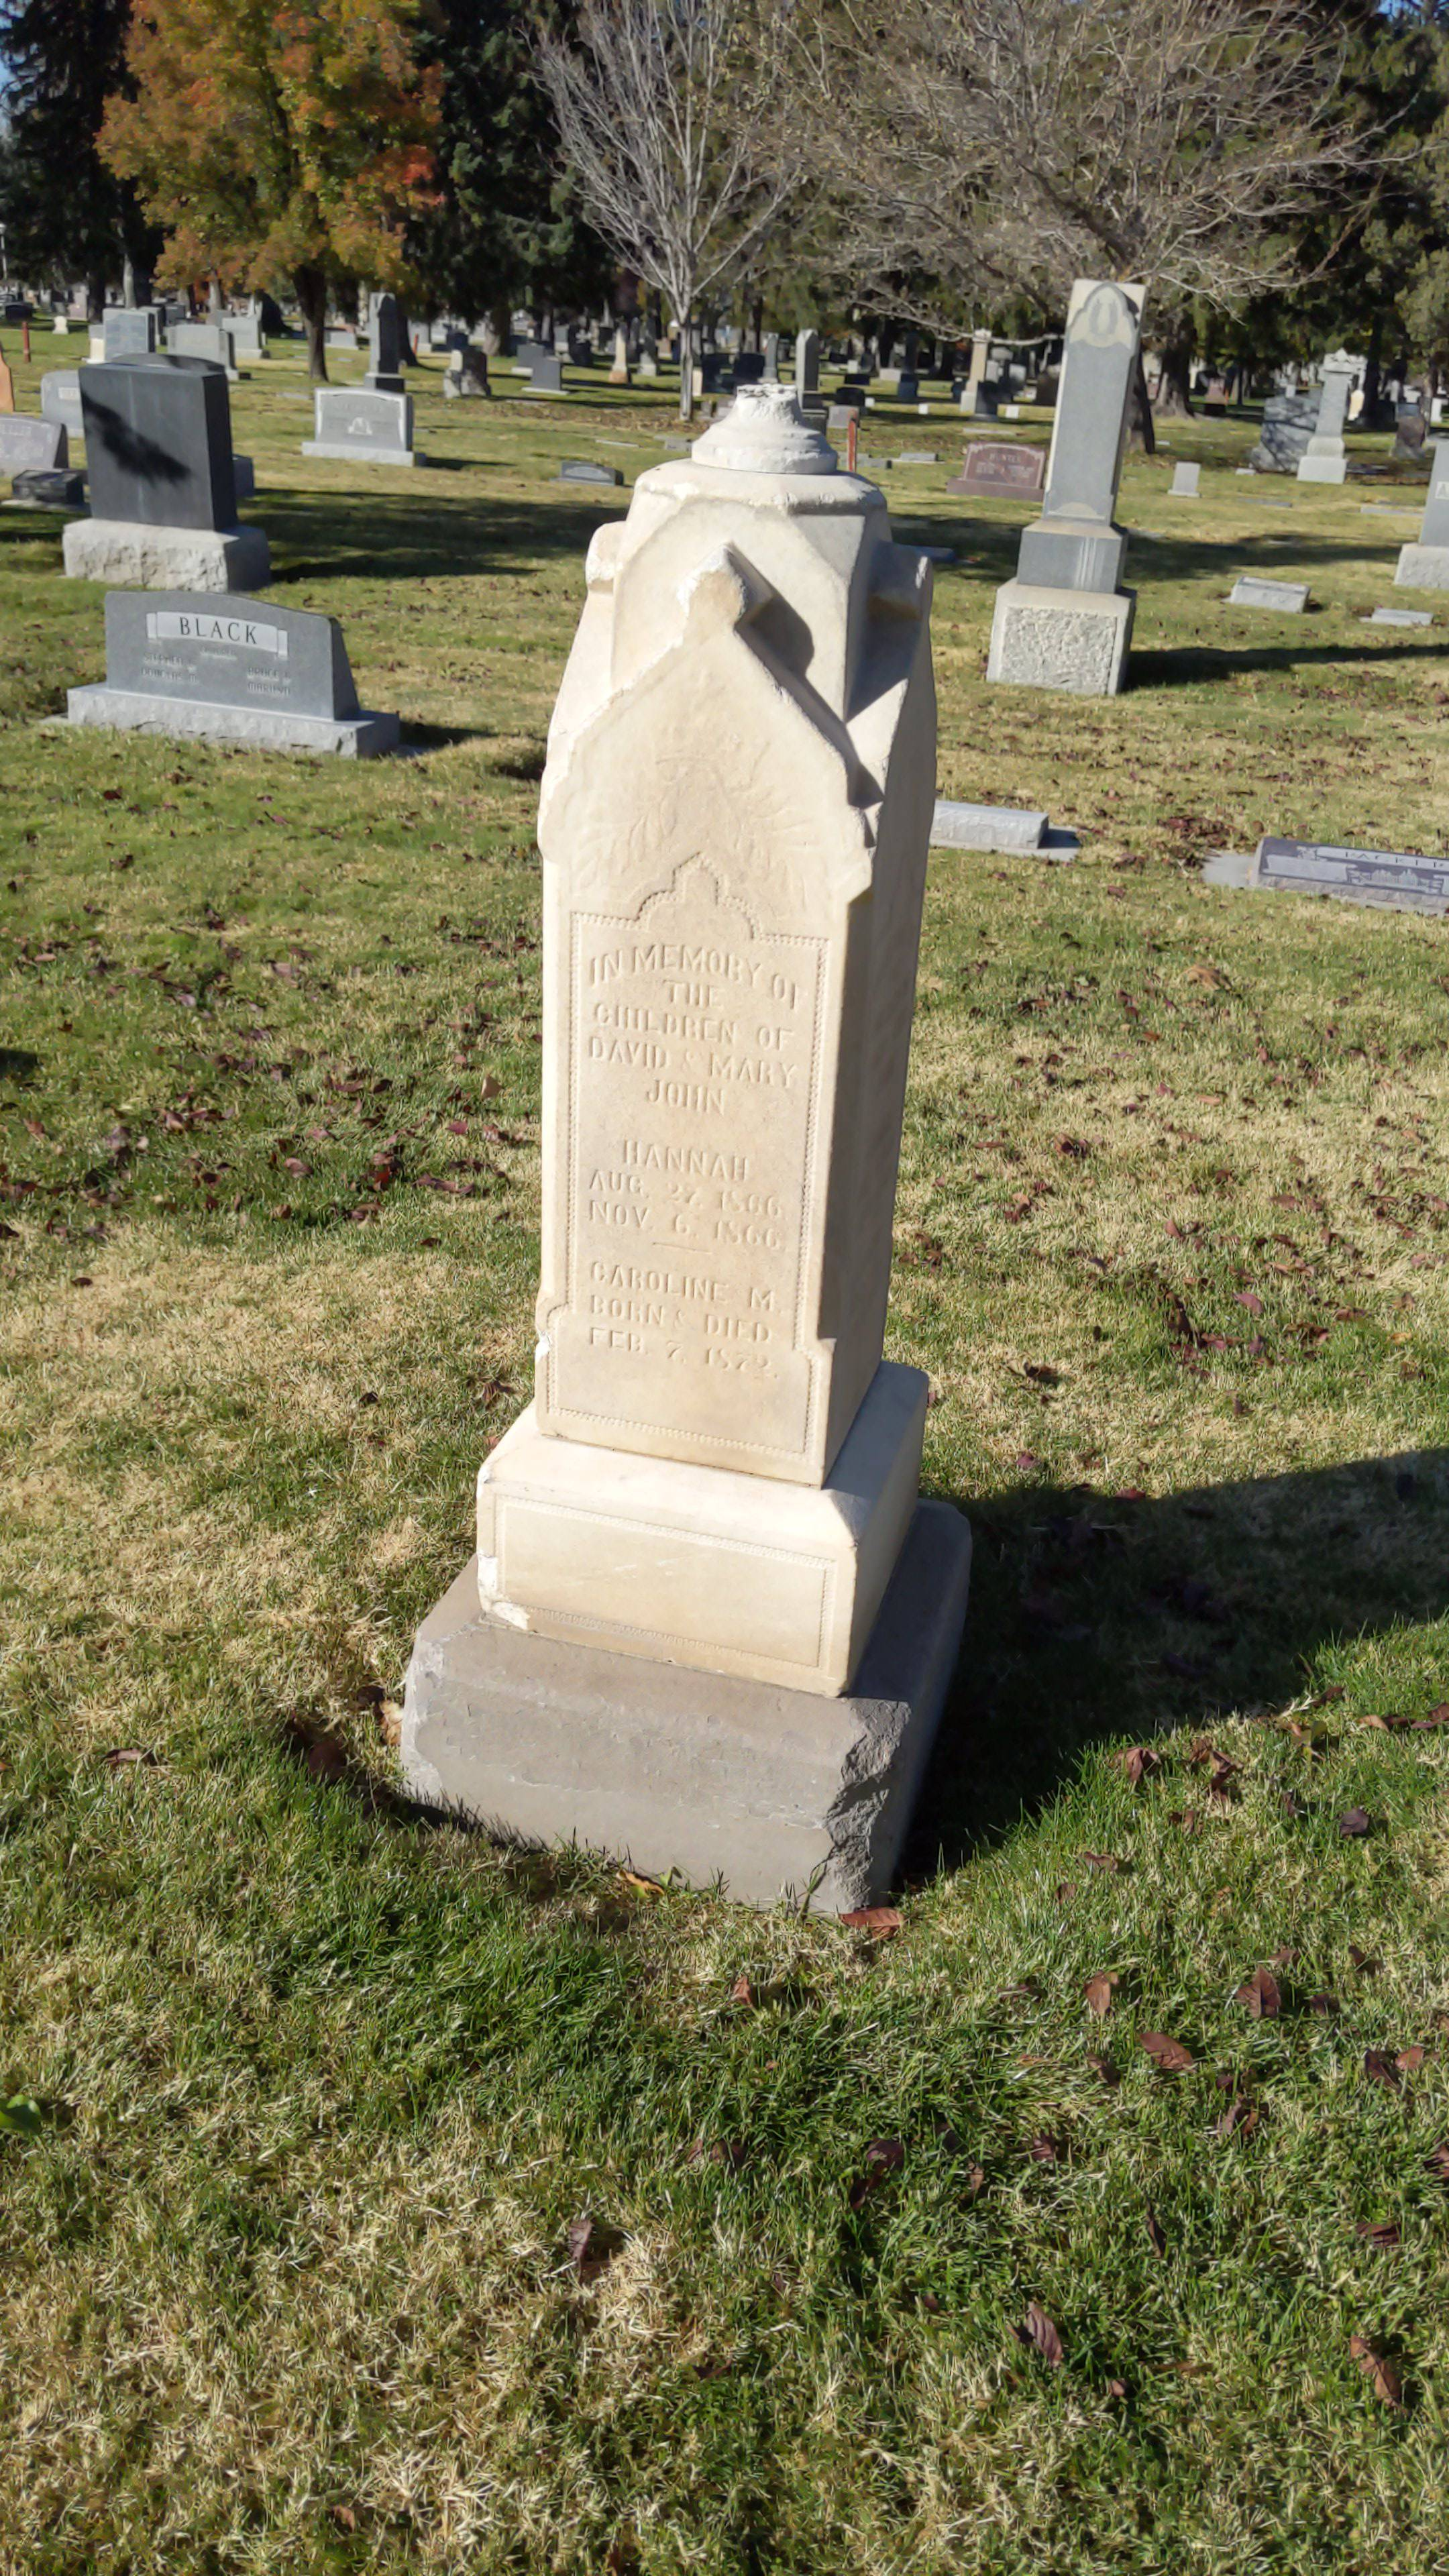obelisk: (472, 377, 920, 1706)
